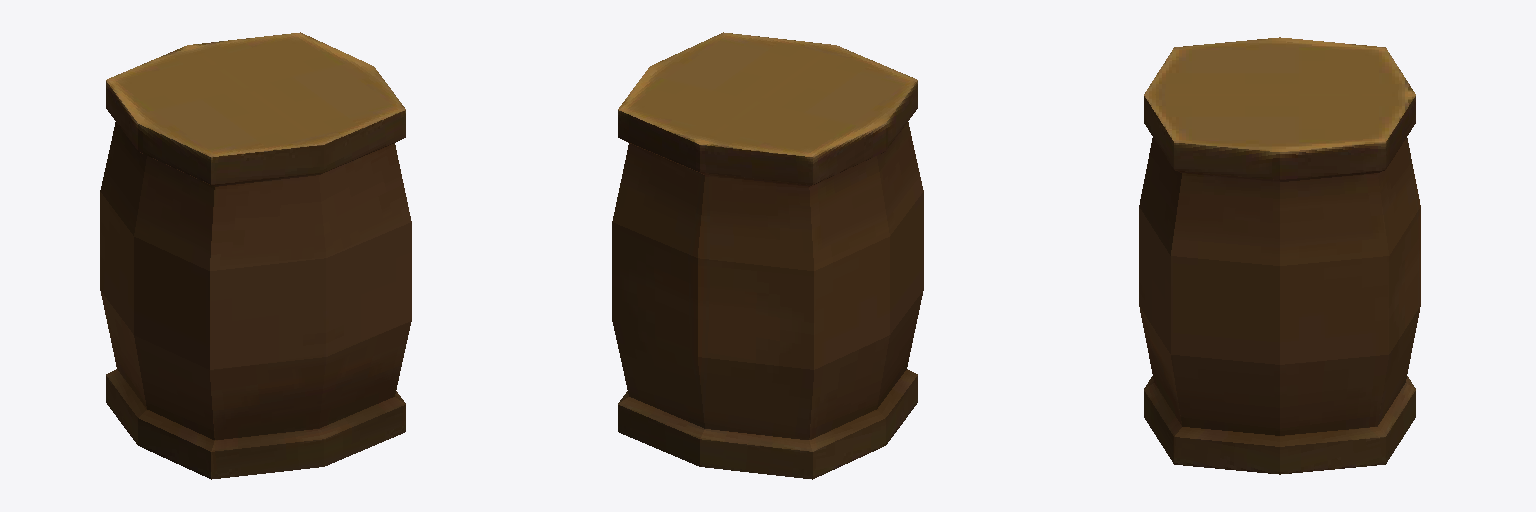
3 views of the same model, side by side, from view 1: azimuth 30°, elevation 25°; view 2: azimuth 150°, elevation 25°; view 3: azimuth 270°, elevation 25° (orthographic).
Visible parts, largest first — view 1: OBJ_Bucket_01; view 2: OBJ_Bucket_01; view 3: OBJ_Bucket_01.
Boxes of the visible parts, <box> form: OBJ_Bucket_01: <box>100,32,411,479</box>; OBJ_Bucket_01: <box>612,32,923,479</box>; OBJ_Bucket_01: <box>1139,37,1420,474</box>.
Size of the model in its own units: 0.7261 by 0.9161 by 0.7261.
1 materials, 1 textured.